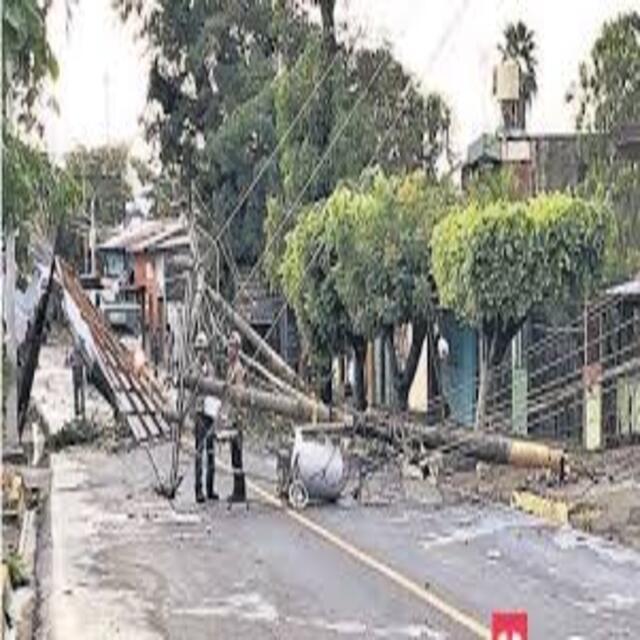Inclined Pole: (146, 251, 565, 515)
